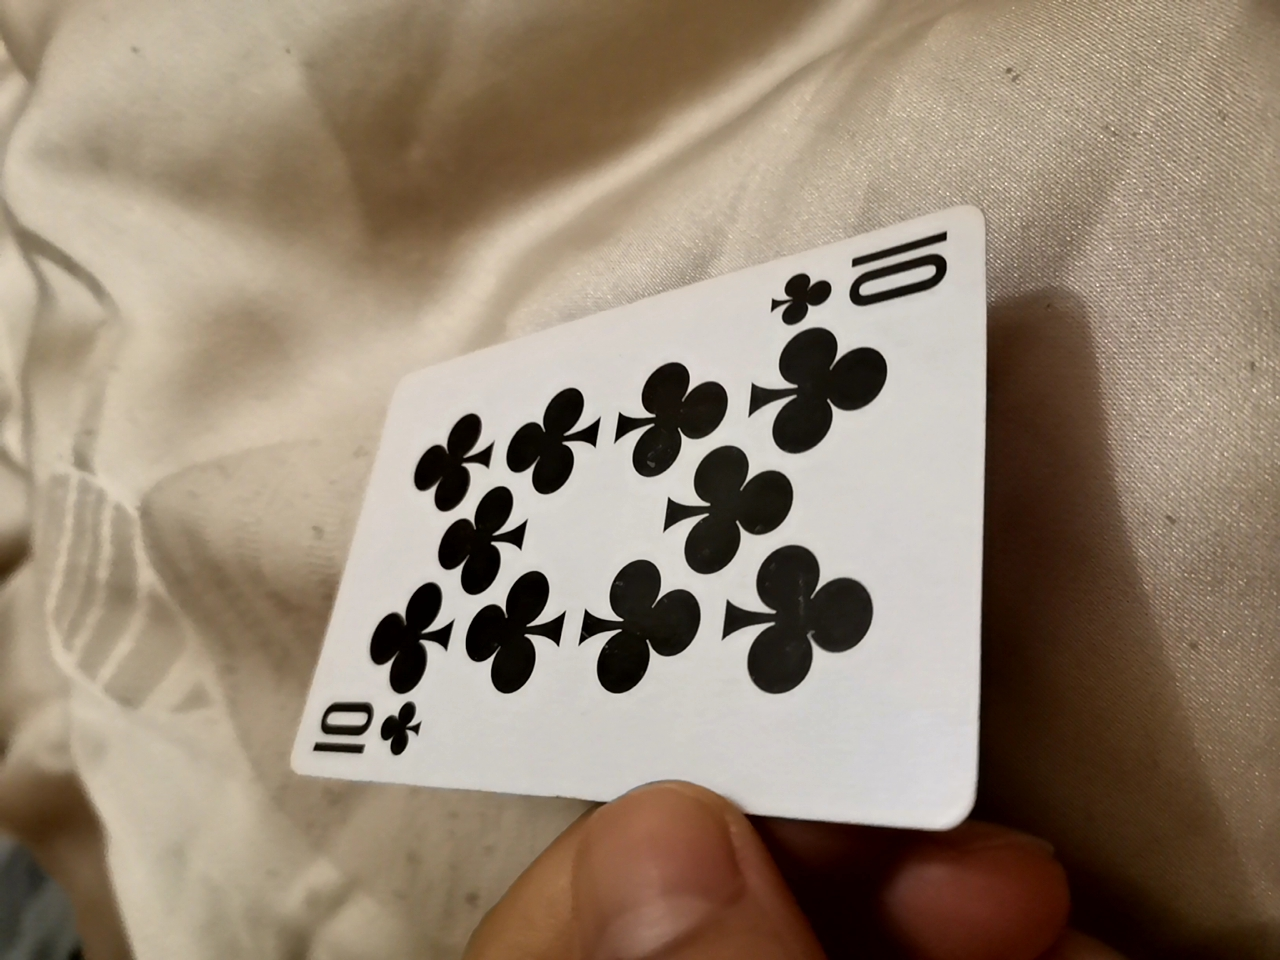mh 10: (303, 217, 996, 836)
